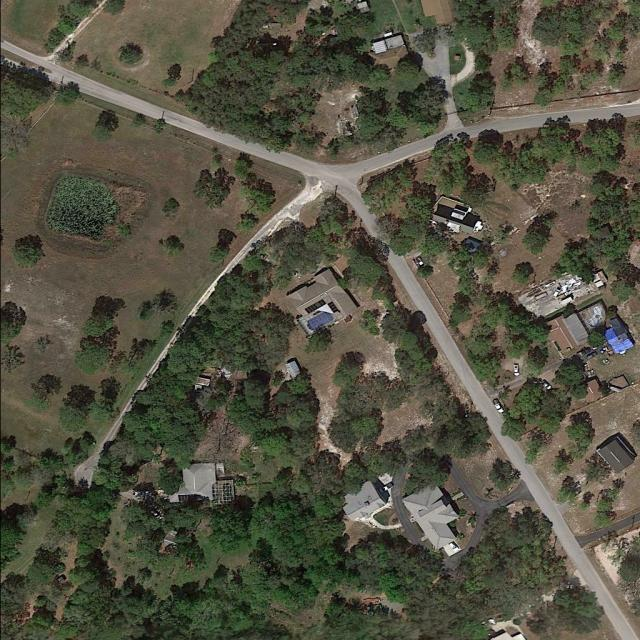large-vehicle: (376, 481, 394, 496), (492, 398, 504, 413), (416, 256, 426, 269), (513, 364, 520, 376)
small-vehicle: (576, 346, 592, 359), (446, 540, 459, 553), (149, 508, 162, 521), (541, 379, 552, 391), (586, 351, 599, 361)
